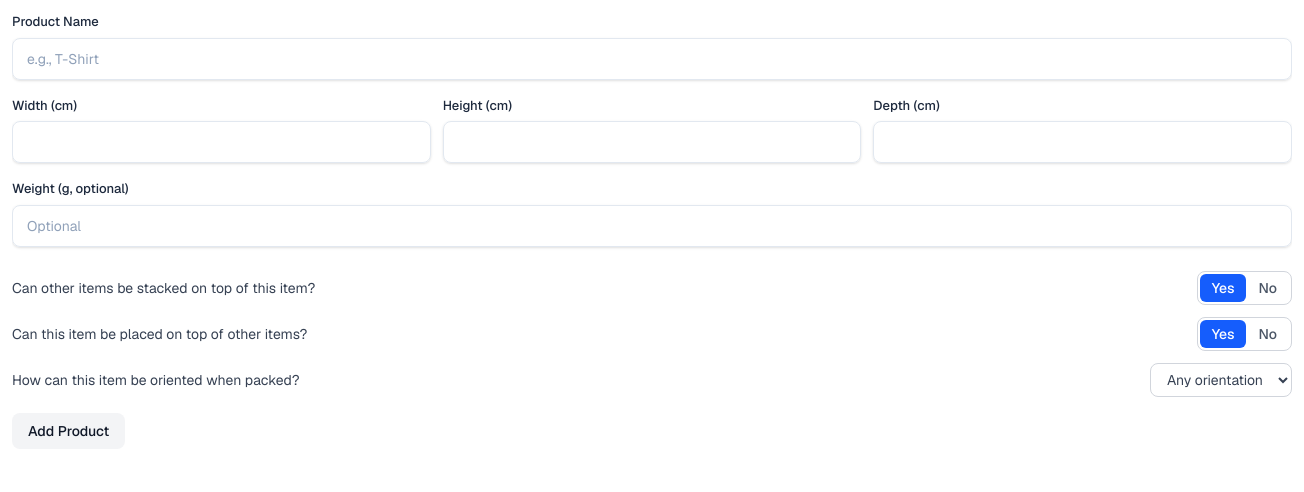
ProductForm › shows an error for negative weight
This screenshot has width=1304, height=492.
Type "30" into the number field labelled "Width (cm)" at (221, 142), box [12,121,431,163]
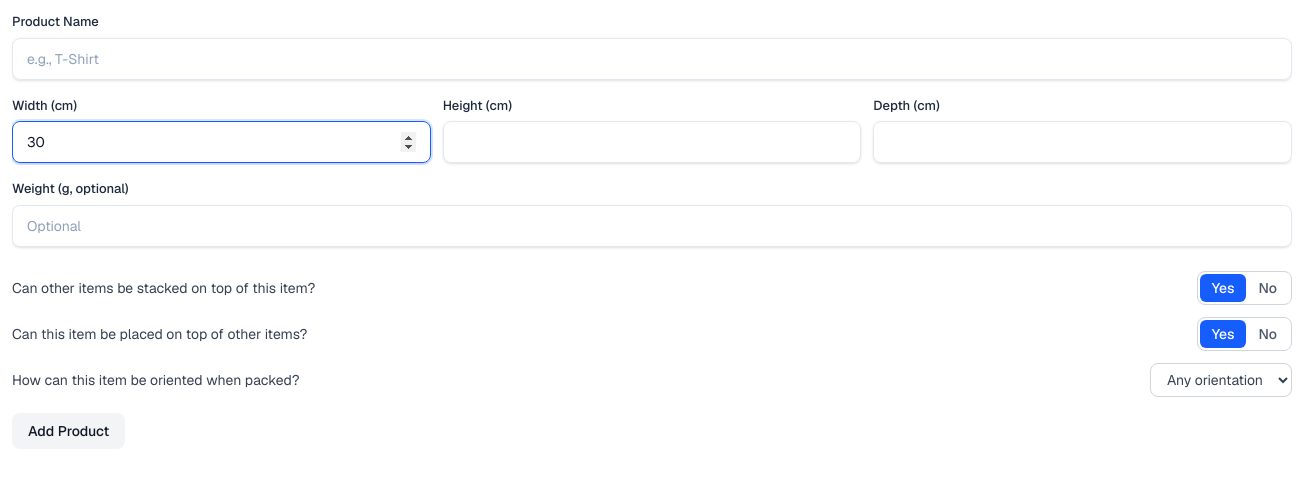
Type "20" into the number field labelled "Height (cm)" at (652, 142), box [443,121,861,163]
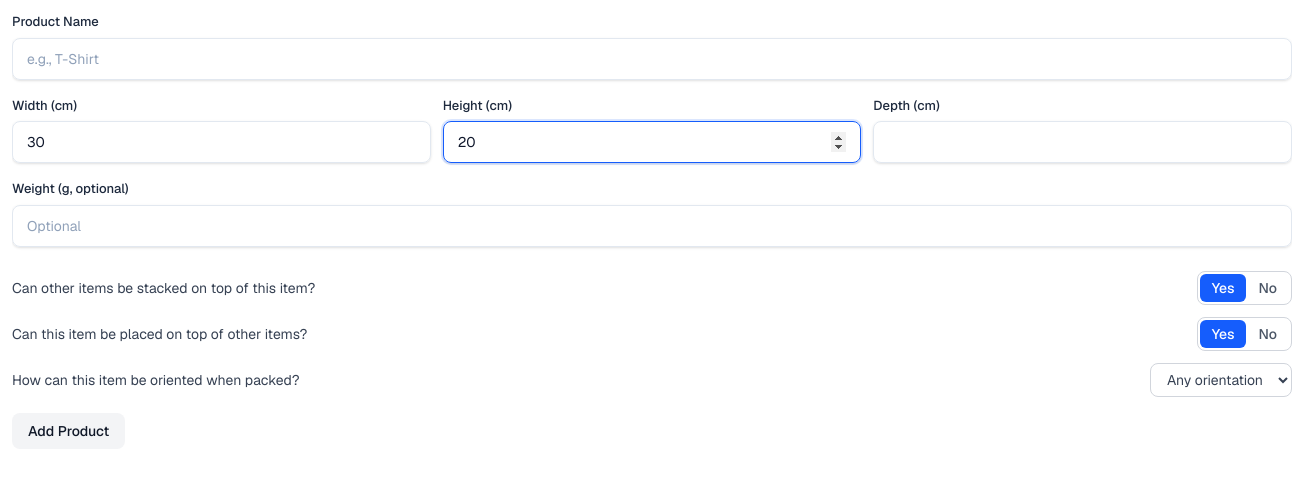
Type "5" into the number field labelled "Depth (cm)" at (1083, 142), box [873,121,1292,163]
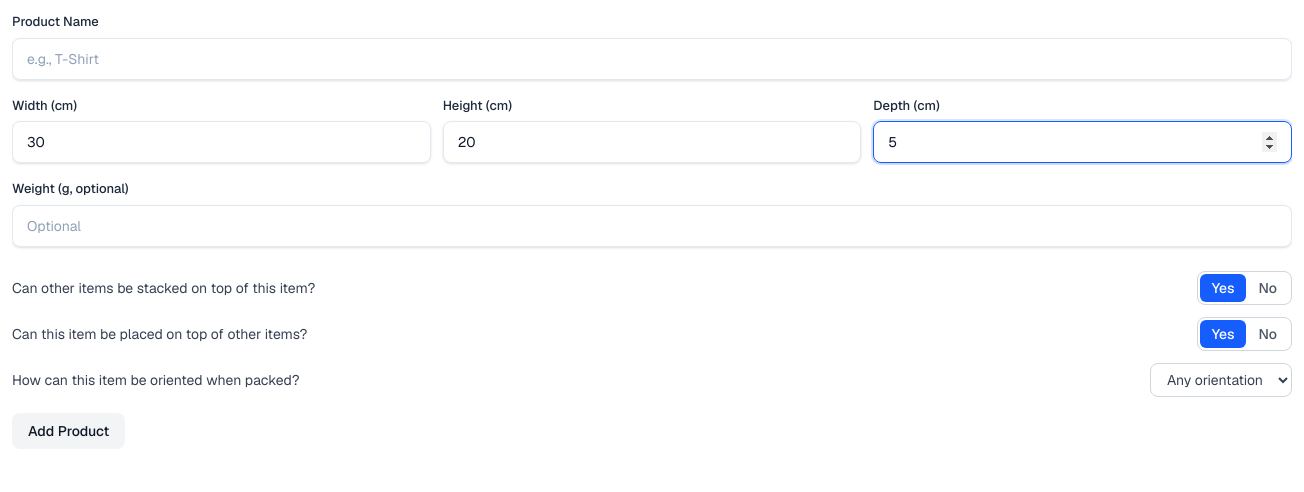
Type "-1" into the number field labelled "Weight (g, optional)" at (652, 226), box [12,204,1292,246]
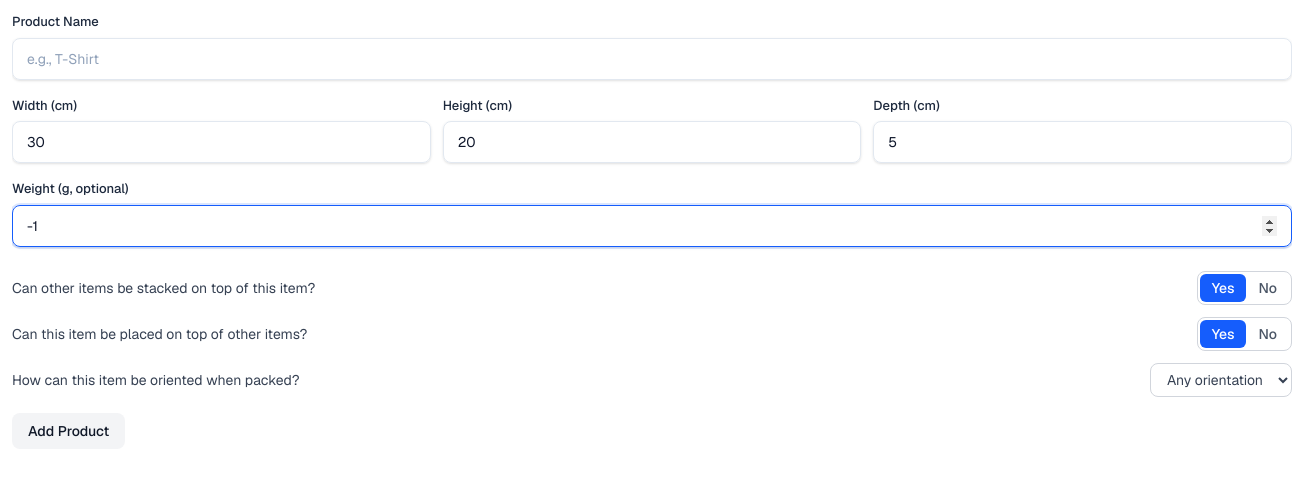
Click the button "Add Product" at (69, 430), box [12,412,125,448]
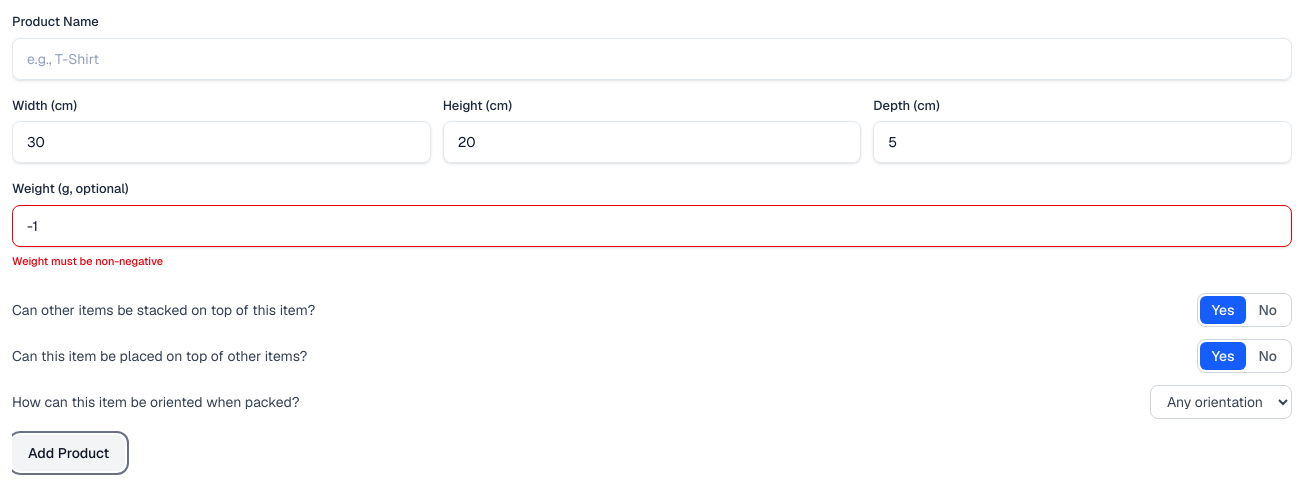
Check: the text "Weight must be non-negative" is shown, box [12,254,163,268]
